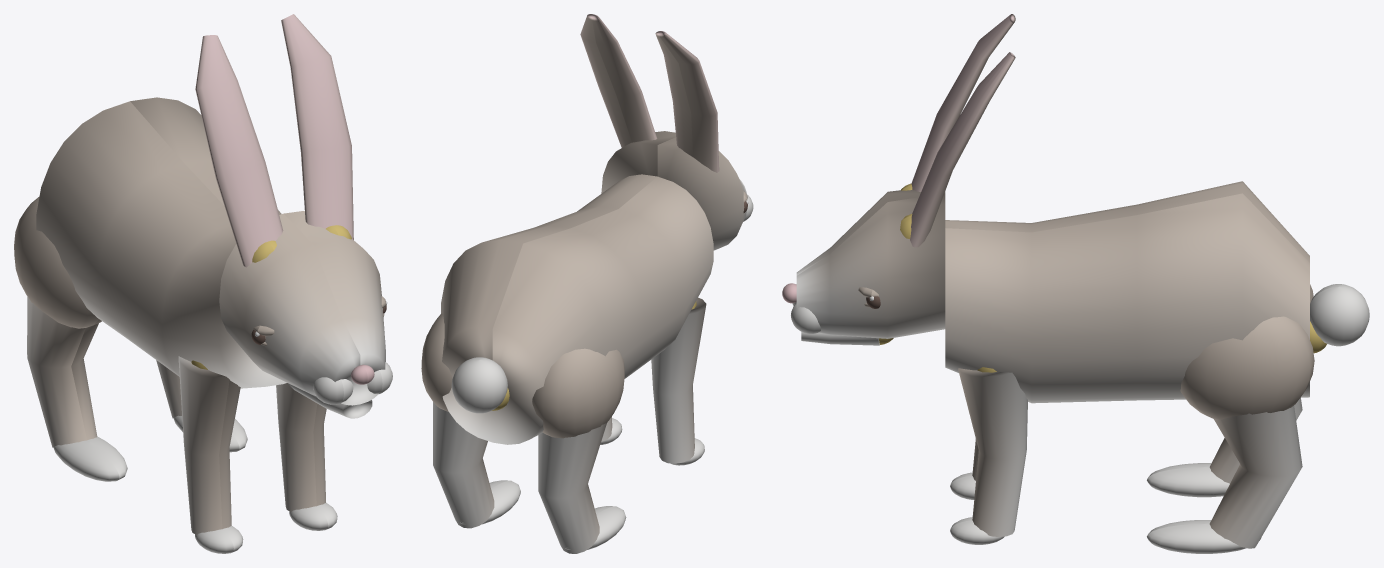
The model's file is rabbit.glb.
3 renders of one model, left to right at view 1: azimuth 30°, elevation 25°; view 2: azimuth 150°, elevation 25°; view 3: azimuth 270°, elevation 25°, orthographic. The views are drawn at different scales.
Parts seen in each view (by area): view 1: Body, Head, Leg_RL, Ear_L, Ear_R, Leg_FL, Leg_FR, Leg_RR, Jaw; view 2: Body, Leg_RL, Leg_RR, Head, Leg_FL, Ear_L, Ear_R, Tail; view 3: Body, Leg_RR, Head, Leg_FR, Ear_R, Ear_L, Tail, Leg_RL, Jaw, Leg_FL.
Boxes of the visible parts, left/top/right/bottom form: Body: left=36, top=97, right=286, bottom=388; Head: left=219, top=211, right=392, bottom=405; Leg_RL: left=14, top=196, right=127, bottom=481; Ear_L: left=195, top=35, right=283, bottom=267; Ear_R: left=281, top=14, right=353, bottom=239; Leg_FL: left=178, top=356, right=243, bottom=553; Leg_FR: left=276, top=383, right=337, bottom=530; Leg_RR: left=156, top=360, right=247, bottom=452; Jaw: left=288, top=384, right=372, bottom=418; Body: left=441, top=174, right=713, bottom=444; Leg_RL: left=532, top=348, right=626, bottom=553; Leg_RR: left=421, top=313, right=520, bottom=528; Head: left=601, top=131, right=753, bottom=250; Leg_FL: left=651, top=297, right=706, bottom=465; Ear_L: left=655, top=31, right=719, bottom=172; Ear_R: left=580, top=14, right=657, bottom=147; Tail: left=451, top=357, right=509, bottom=413; Body: left=945, top=181, right=1309, bottom=403; Leg_RR: left=1147, top=316, right=1314, bottom=553; Head: left=782, top=190, right=945, bottom=338; Leg_FR: left=950, top=367, right=1027, bottom=544; Ear_R: left=900, top=52, right=1015, bottom=247; Ear_L: left=901, top=14, right=1015, bottom=191; Tail: left=1310, top=284, right=1369, bottom=353; Leg_RL: left=1147, top=284, right=1313, bottom=497; Jaw: left=801, top=332, right=893, bottom=345; Leg_FL: left=950, top=439, right=978, bottom=499.
Bounding box in the file's own units: 0.477 × 1.12 × 1.22.
